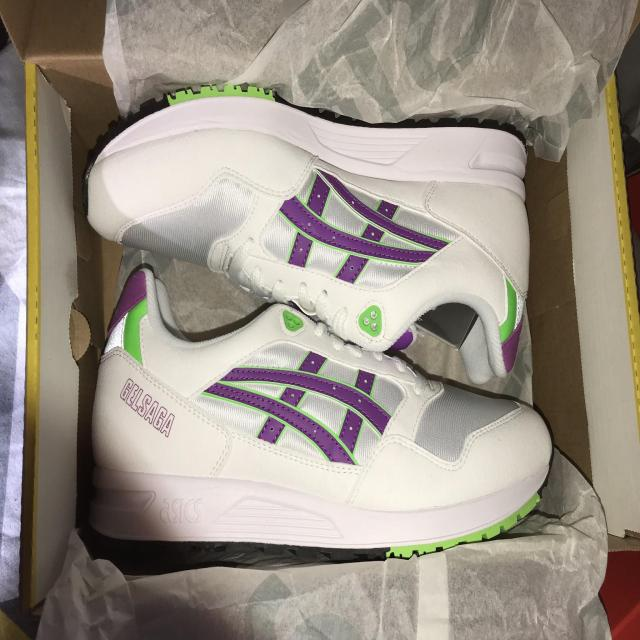shoe: (74, 73, 596, 394), (60, 266, 558, 581)
